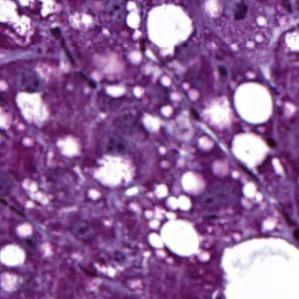ballooning: (91, 150, 136, 191)
